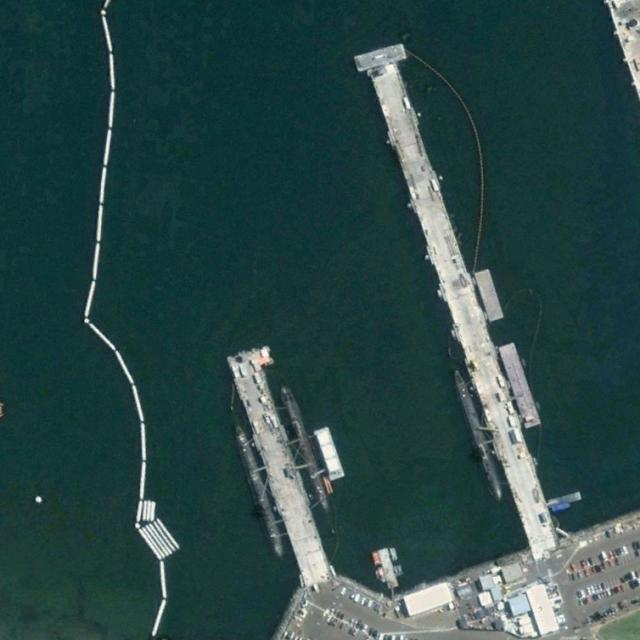Submarine: (274, 380, 336, 520), (450, 366, 508, 506), (230, 420, 287, 562)
